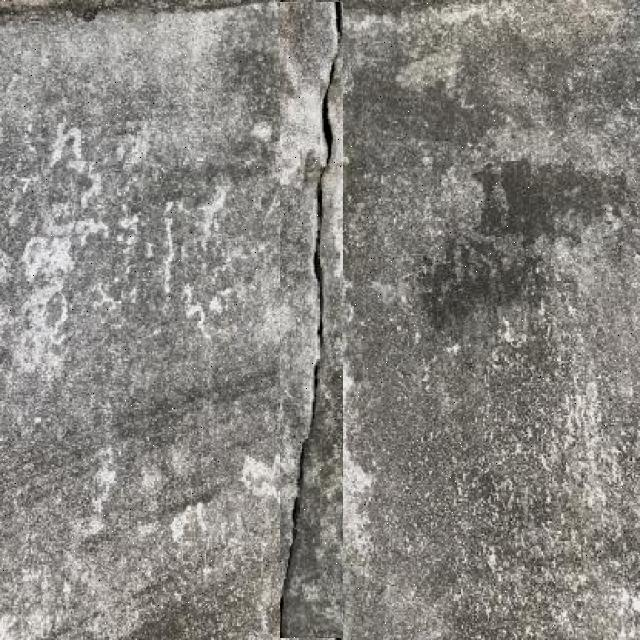corrosion: (466, 155, 640, 289), (418, 227, 523, 336)
crack: (275, 0, 348, 639), (6, 4, 342, 111), (336, 4, 479, 210), (69, 182, 190, 326), (355, 188, 449, 337), (151, 180, 245, 326), (4, 524, 120, 639), (42, 31, 169, 119), (120, 356, 257, 433), (329, 1, 633, 33), (274, 0, 320, 187), (5, 1, 296, 29), (316, 124, 346, 323), (147, 463, 235, 516), (409, 3, 497, 42), (21, 235, 70, 283), (47, 123, 89, 176), (238, 452, 283, 499), (170, 499, 212, 545), (316, 152, 347, 213), (62, 215, 113, 251), (271, 135, 306, 183), (195, 188, 230, 234), (338, 8, 384, 43), (367, 277, 405, 312), (116, 211, 144, 250), (44, 290, 70, 324), (319, 151, 351, 172), (14, 175, 34, 195), (259, 607, 273, 634)
dampens: (280, 436, 318, 634), (316, 18, 339, 221), (287, 480, 306, 544), (333, 1, 344, 41), (278, 591, 288, 631), (81, 5, 102, 22)
dampness: (391, 3, 640, 181), (2, 114, 134, 386), (0, 374, 145, 531)
